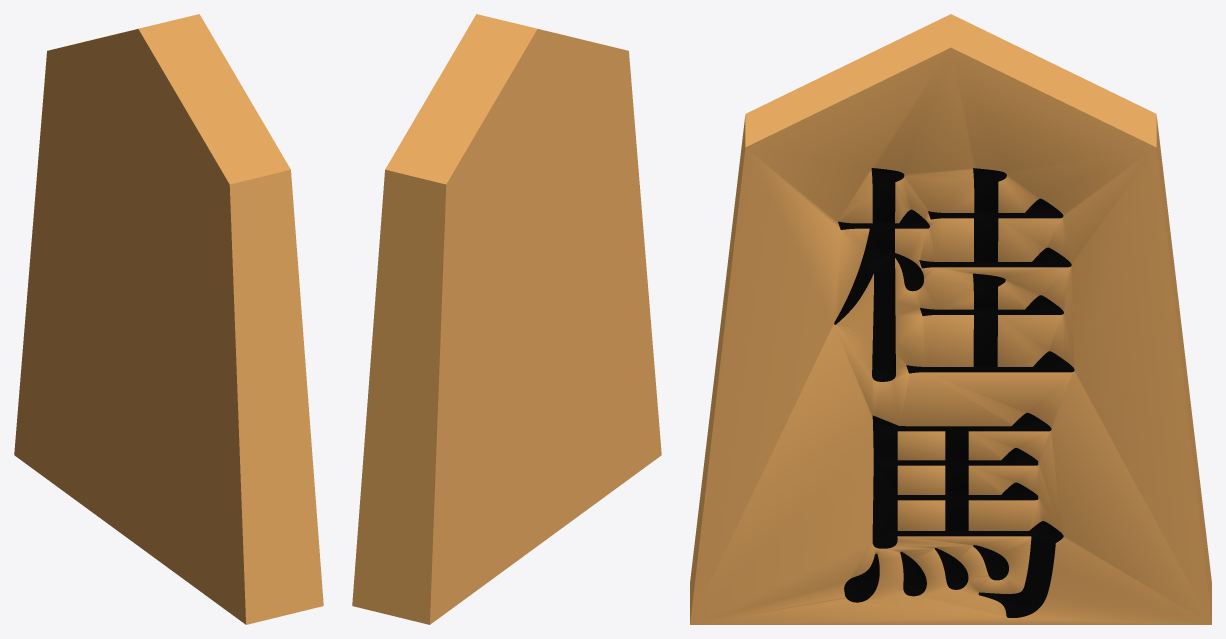
File: JapaneseChessKnight.fbx
The picture shows the model from 3 angles, left to right: view 1: azimuth 30°, elevation 25°; view 2: azimuth 150°, elevation 25°; view 3: azimuth 270°, elevation 25°; orthographic projection. The views are drawn at different scales.
Parts seen in each view (by area): view 1: Cube; view 2: Cube; view 3: Cube.
Part boxes in pixels (bbox=[...]): Cube: bbox=[14, 14, 323, 624]; Cube: bbox=[352, 14, 661, 624]; Cube: bbox=[690, 14, 1211, 624].
Bounding box in the file's own units: 38.67 × 242 × 200.
2 materials, 2 textured.
